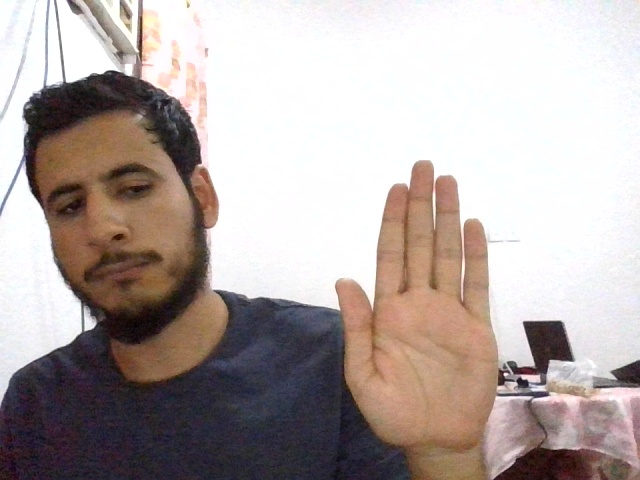Five: (334, 160, 500, 449)
